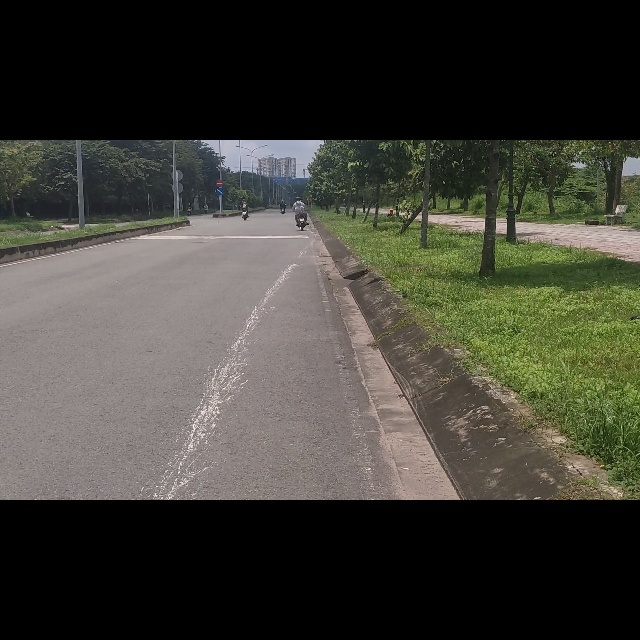bien_cam: (216, 70, 223, 83), (217, 85, 224, 98)
